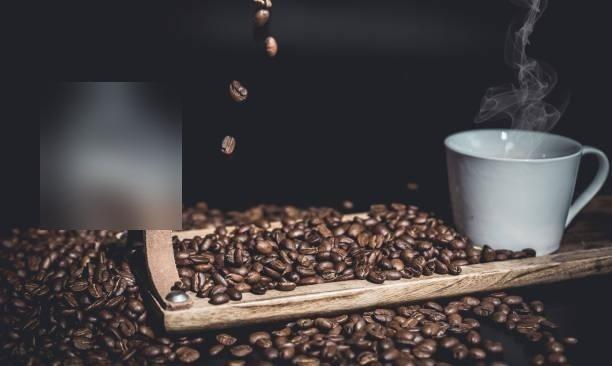cup-handle: (443, 126, 610, 257)
